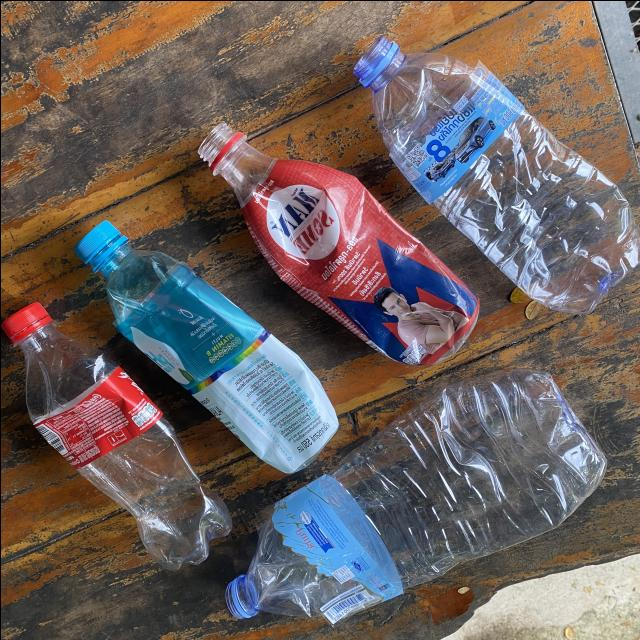plastik: (227, 368, 605, 623), (353, 37, 640, 312), (197, 123, 478, 363), (74, 221, 337, 472), (2, 302, 230, 569)
